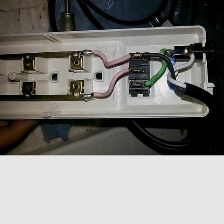three_eye_plug: (0, 21, 213, 123)
